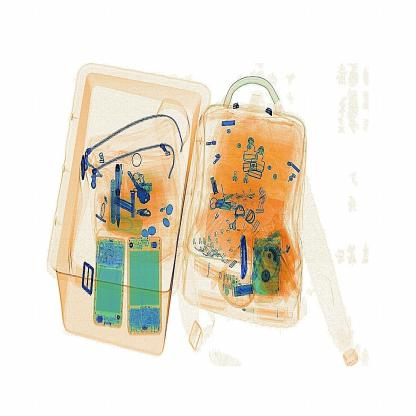knife: (238, 228, 254, 280)
